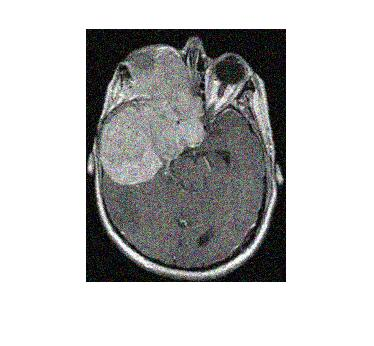Brain_Cancer: (104, 120, 160, 184)
